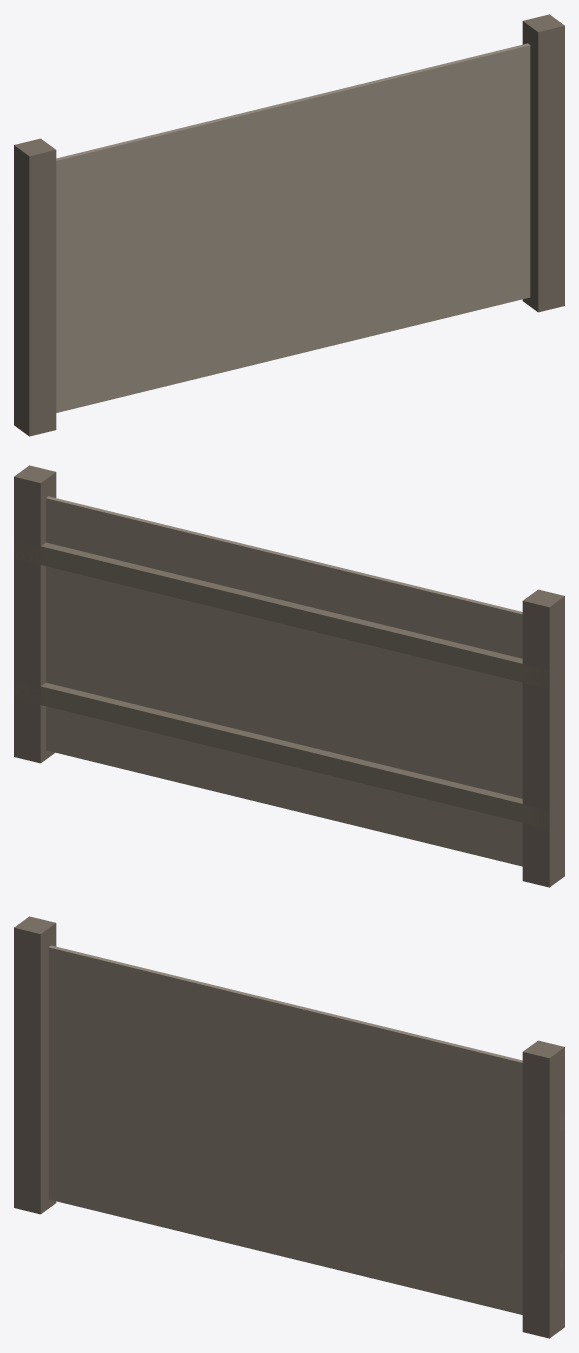
The model's file is yard-fence.lod1.glb.
The picture shows the model from 3 angles, top to bottom: view 1: azimuth 30°, elevation 25°; view 2: azimuth 150°, elevation 25°; view 3: azimuth 330°, elevation 25°; orthographic projection.
Visible parts, largest first — view 1: yard-fence; view 2: yard-fence; view 3: yard-fence.
Part boxes in pixels (x1,y1,x2,y2): yard-fence: (14,14,564,436); yard-fence: (14,465,564,887); yard-fence: (14,916,564,1338).
Size of the model in its own units: 2.4 by 1.2 by 0.1201.
